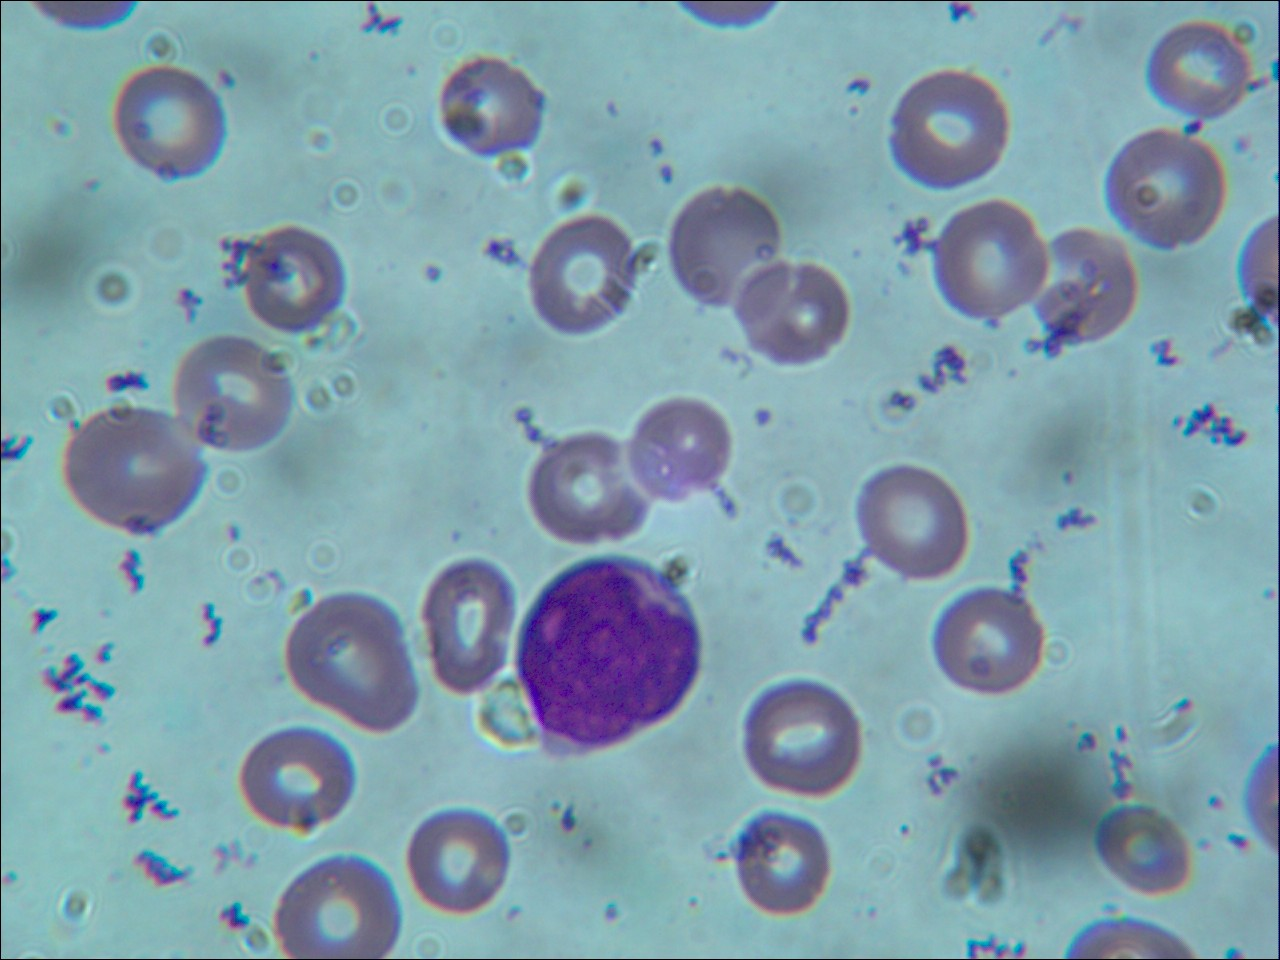Eritrosit: (286, 592, 424, 734), (59, 408, 205, 528), (880, 65, 1006, 192), (520, 209, 643, 339), (925, 199, 1050, 322), (1105, 125, 1225, 252), (739, 680, 862, 803), (171, 334, 292, 458), (665, 181, 780, 308), (268, 852, 402, 960), (421, 555, 517, 702), (528, 434, 653, 546), (928, 583, 1046, 696), (1030, 225, 1139, 347), (234, 727, 362, 830), (114, 68, 227, 183), (236, 222, 345, 336), (1083, 797, 1198, 905), (859, 469, 967, 581), (437, 58, 545, 165), (628, 396, 733, 506), (739, 261, 848, 364), (408, 806, 505, 919), (1148, 17, 1253, 121), (725, 812, 828, 912)
Limfoblast: (517, 558, 705, 746)
Platelet: (1050, 459, 1087, 496), (545, 800, 587, 833), (218, 519, 256, 555), (981, 306, 1011, 347), (593, 902, 627, 933), (1180, 118, 1212, 149), (43, 117, 77, 146), (130, 119, 165, 146), (1227, 830, 1255, 862), (417, 262, 446, 292), (1233, 125, 1259, 158), (895, 815, 917, 853), (653, 161, 681, 190), (845, 71, 870, 102), (509, 400, 536, 428), (300, 44, 328, 71), (755, 403, 781, 430), (646, 131, 671, 156), (443, 524, 470, 549), (77, 175, 106, 196), (600, 100, 627, 121), (1205, 793, 1230, 815), (402, 55, 423, 81), (1198, 833, 1215, 859), (843, 102, 865, 122)
